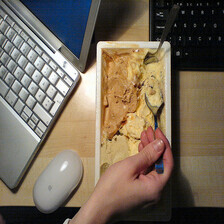laptop: (1, 1, 141, 180), (138, 1, 224, 84)
